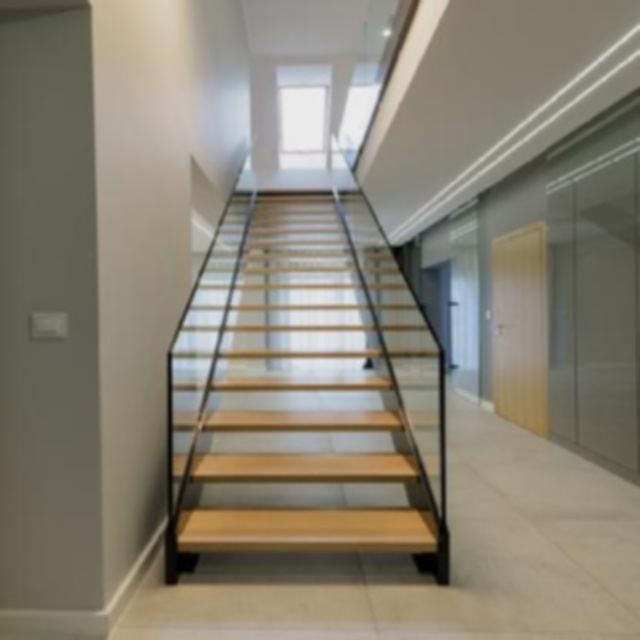stair: (105, 124, 440, 582)
